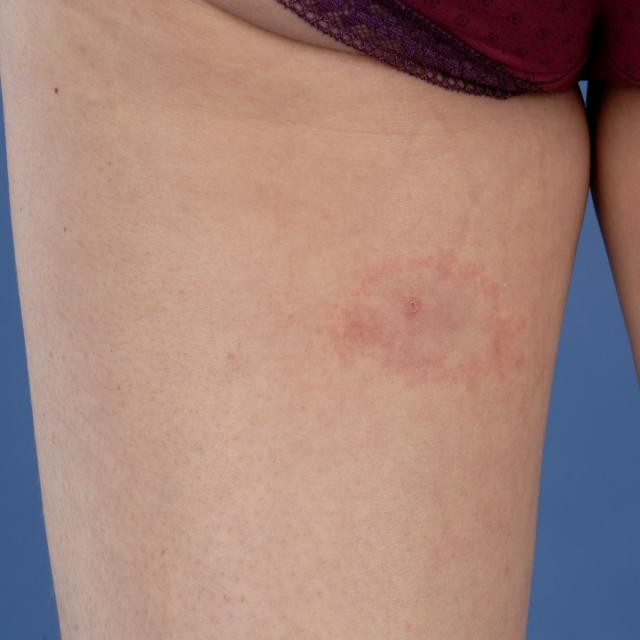Erythema chronicum migrans: (303, 176, 525, 452)
